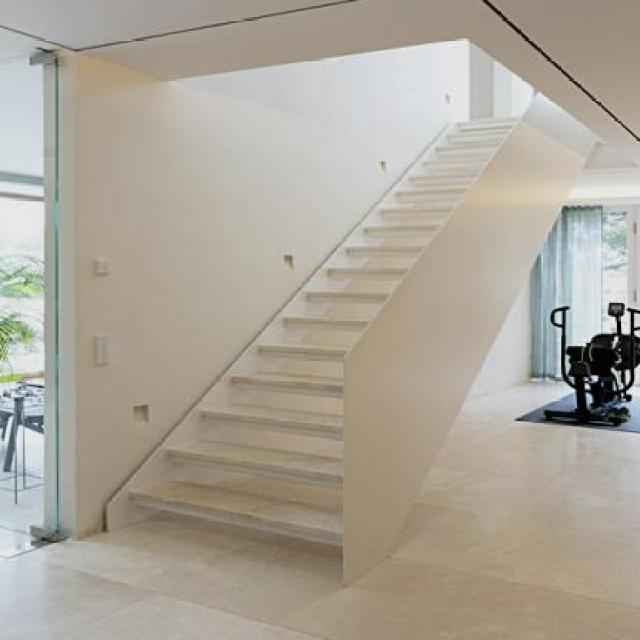stair: (86, 103, 583, 568)
